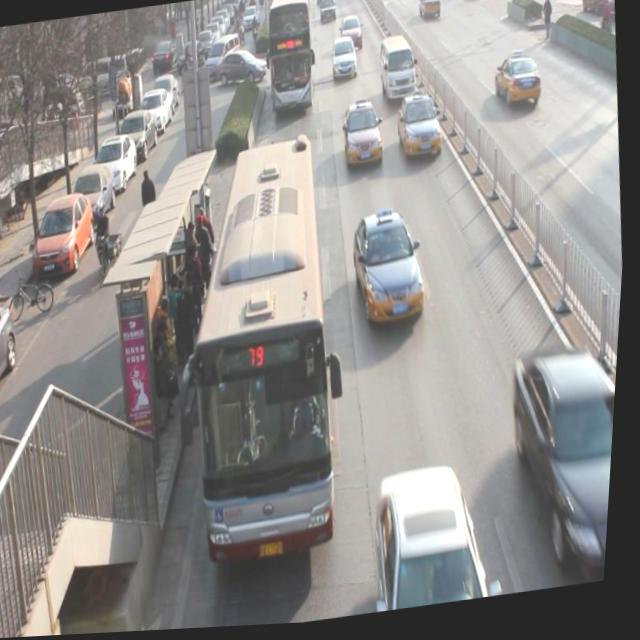car: (506, 342, 623, 593), (377, 468, 508, 616), (349, 216, 434, 332), (396, 97, 450, 171), (491, 56, 548, 118), (341, 103, 388, 174), (330, 40, 360, 83), (338, 20, 365, 54), (419, 0, 443, 25), (318, 0, 337, 24)
truck: (378, 41, 422, 110)
van: (172, 135, 360, 574), (264, 0, 322, 121)
